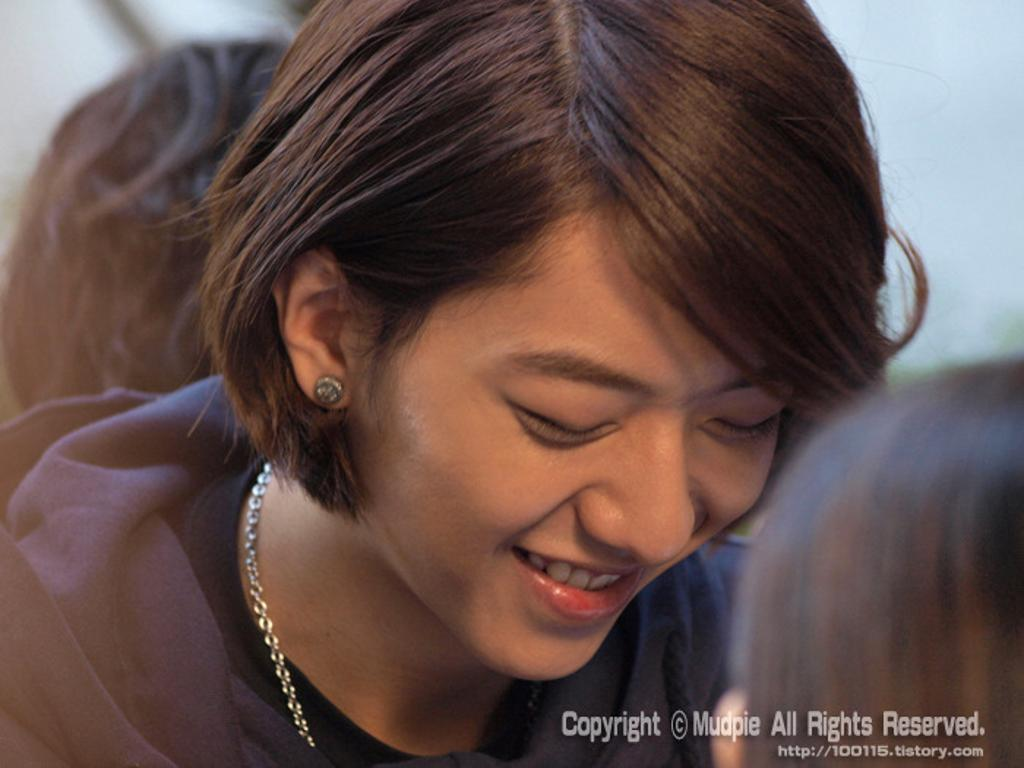face: (388, 172, 788, 680)
